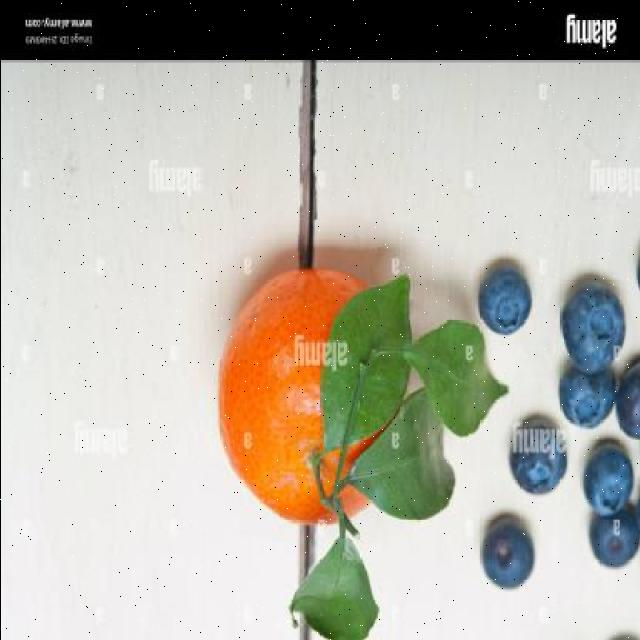Orange: (217, 266, 408, 528)
